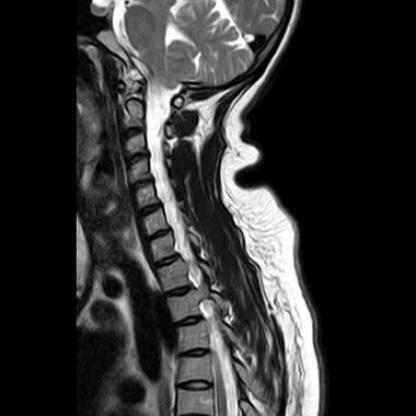Degenerative Disc Diseaserotation: (146, 225, 172, 242)
